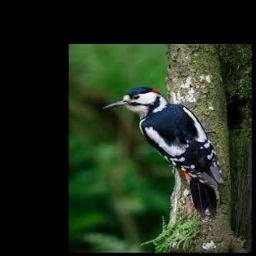Woodpecker: (103, 86, 224, 220)
